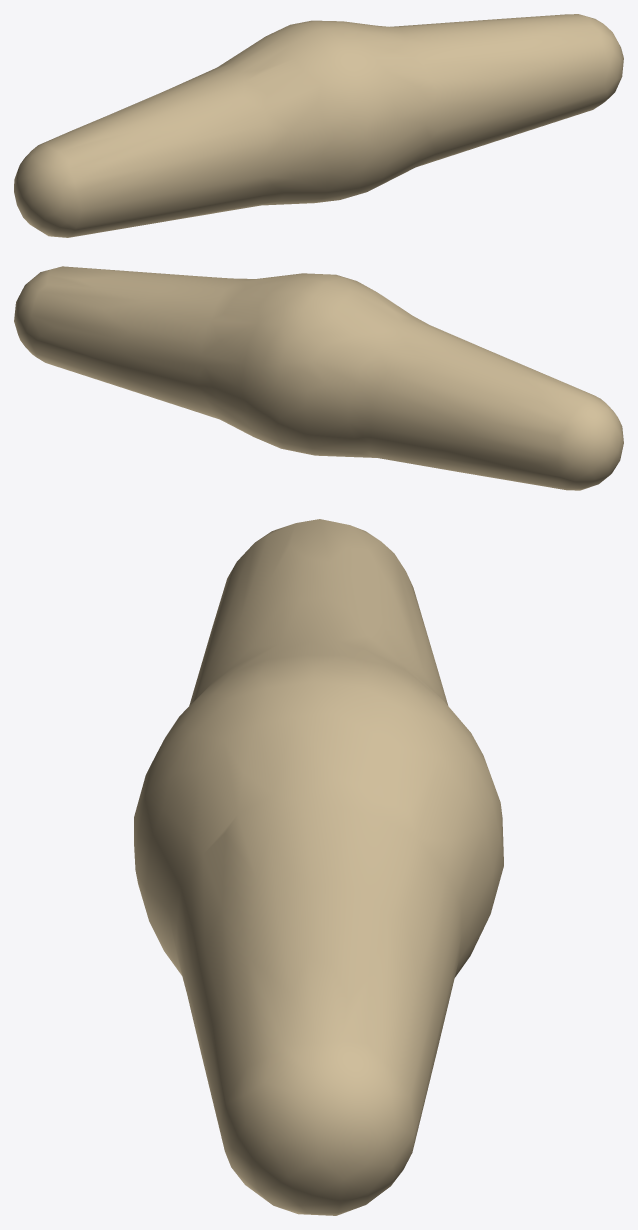
The model's file is bot_phoi.glb.
The picture shows the model from 3 angles, top to bottom: view 1: azimuth 30°, elevation 25°; view 2: azimuth 150°, elevation 25°; view 3: azimuth 270°, elevation 25°; orthographic projection. The views are drawn at different scales.
Parts seen in each view (by area): view 1: bot_phoi; view 2: bot_phoi; view 3: bot_phoi.
Boxes of the visible parts, x1,y1,x2,y2 form: bot_phoi: [14, 14, 623, 237]; bot_phoi: [14, 266, 623, 490]; bot_phoi: [134, 519, 503, 1215].
Size of the model in its own units: 0.3042 by 0.0765 by 0.0816.
